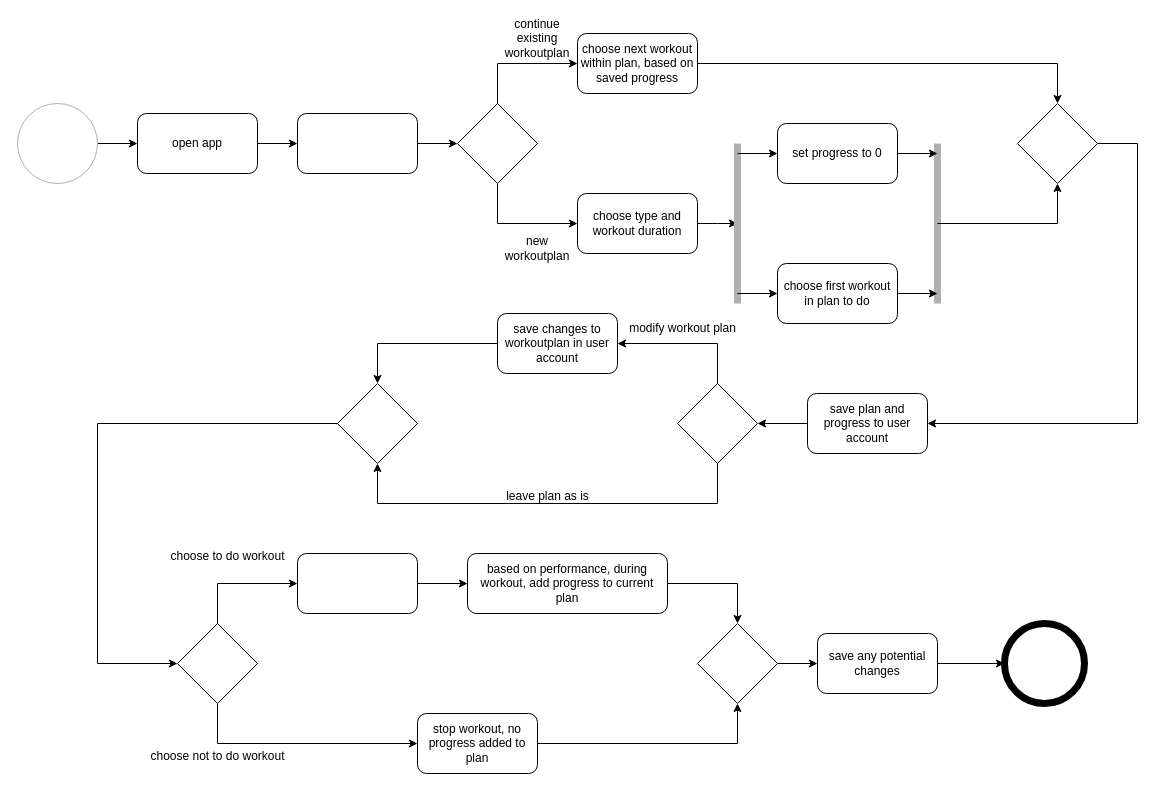
The diagram is 1163 pixels wide and 791 high, and some of its shapes have lost their labels. Each missing label, with the centre of its shape:
choose to do a workoutplan: the point at 357,143
do workout chosen from workout plan before: the point at 357,583
